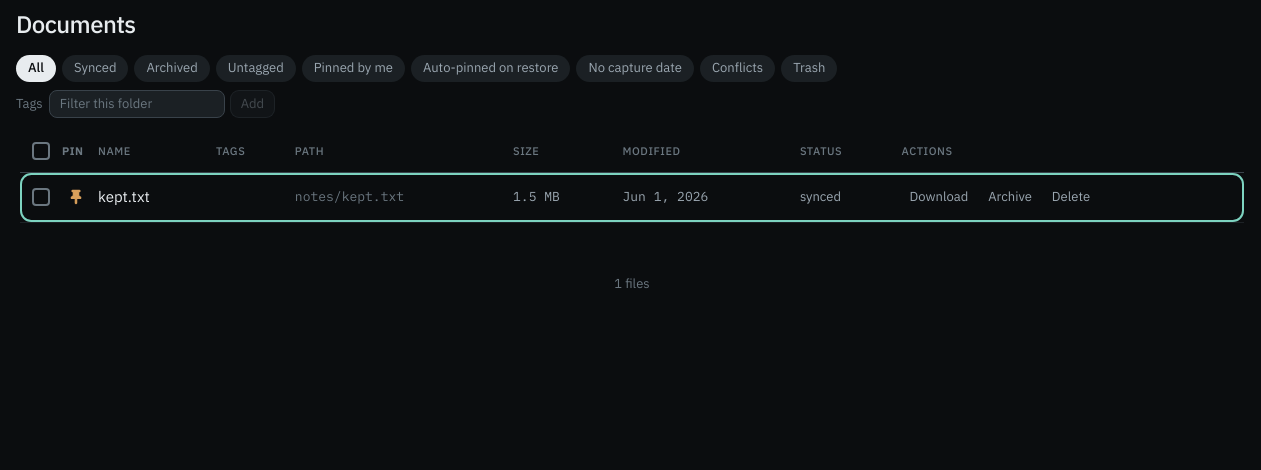
Test: FileBrowser › should show only Unpin for one pinned file
Expected: the button "kept.txt" is shown, [98,186,150,209]
Right-click the row that starts with "kept.txt" at [632, 197], box [20,173,1244,222]
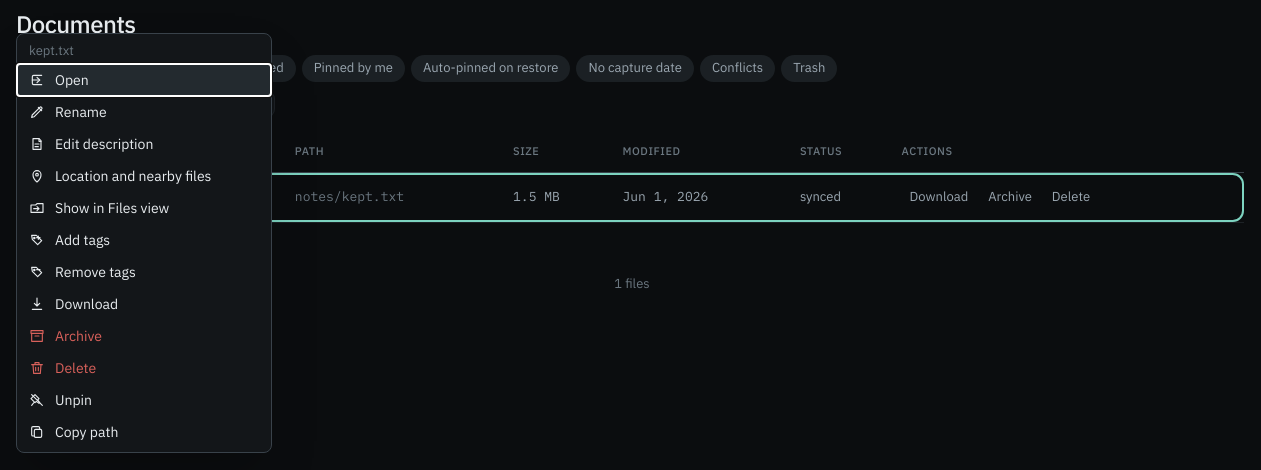
Expected: the menu item "Unpin" is shown, [17,384,271,416]
